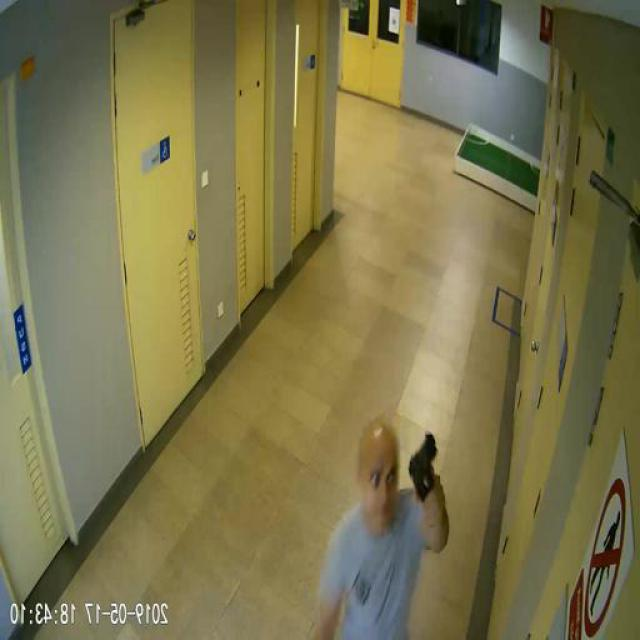Gun: (410, 429, 441, 505)
